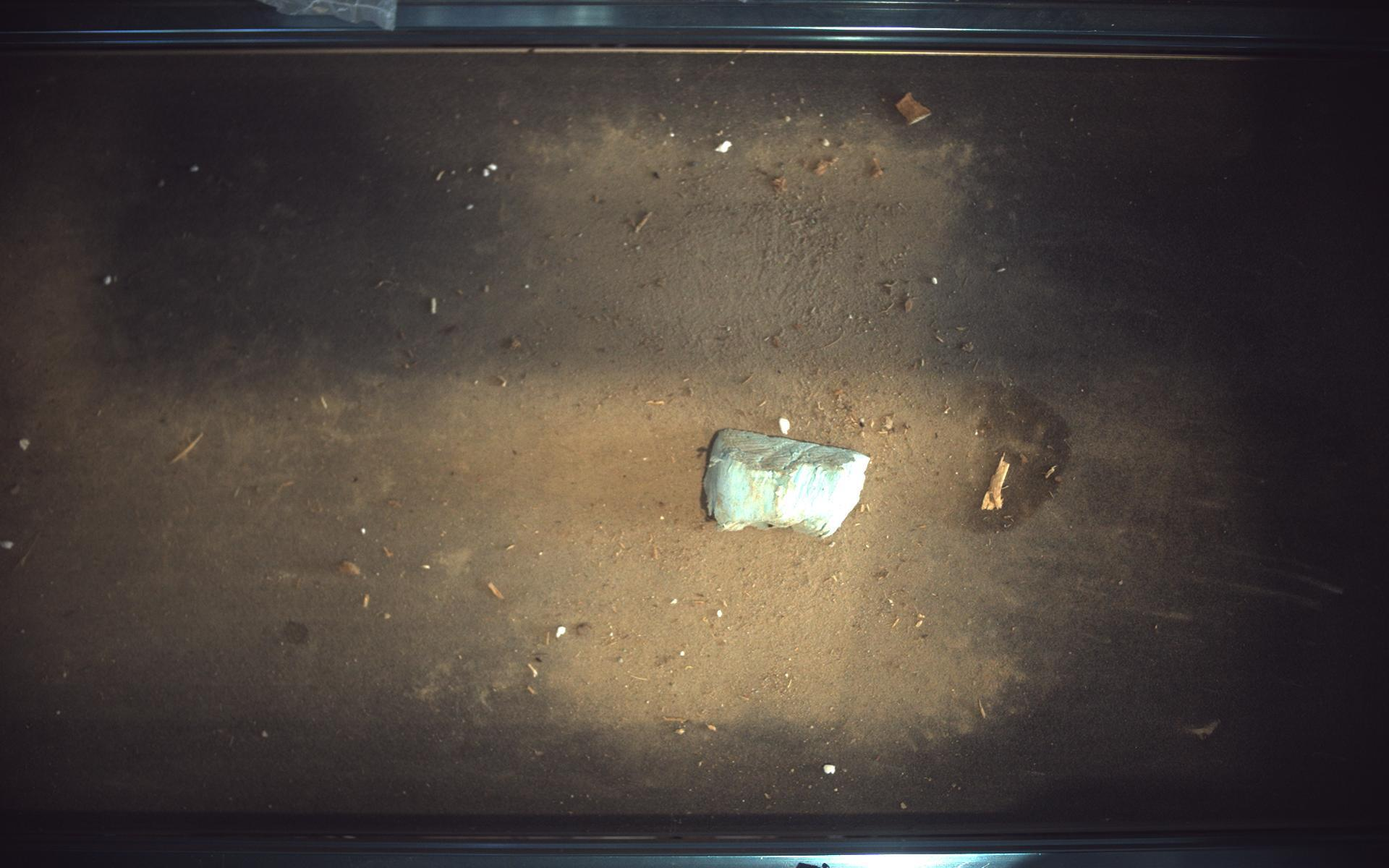foam: (704, 429, 871, 539)
